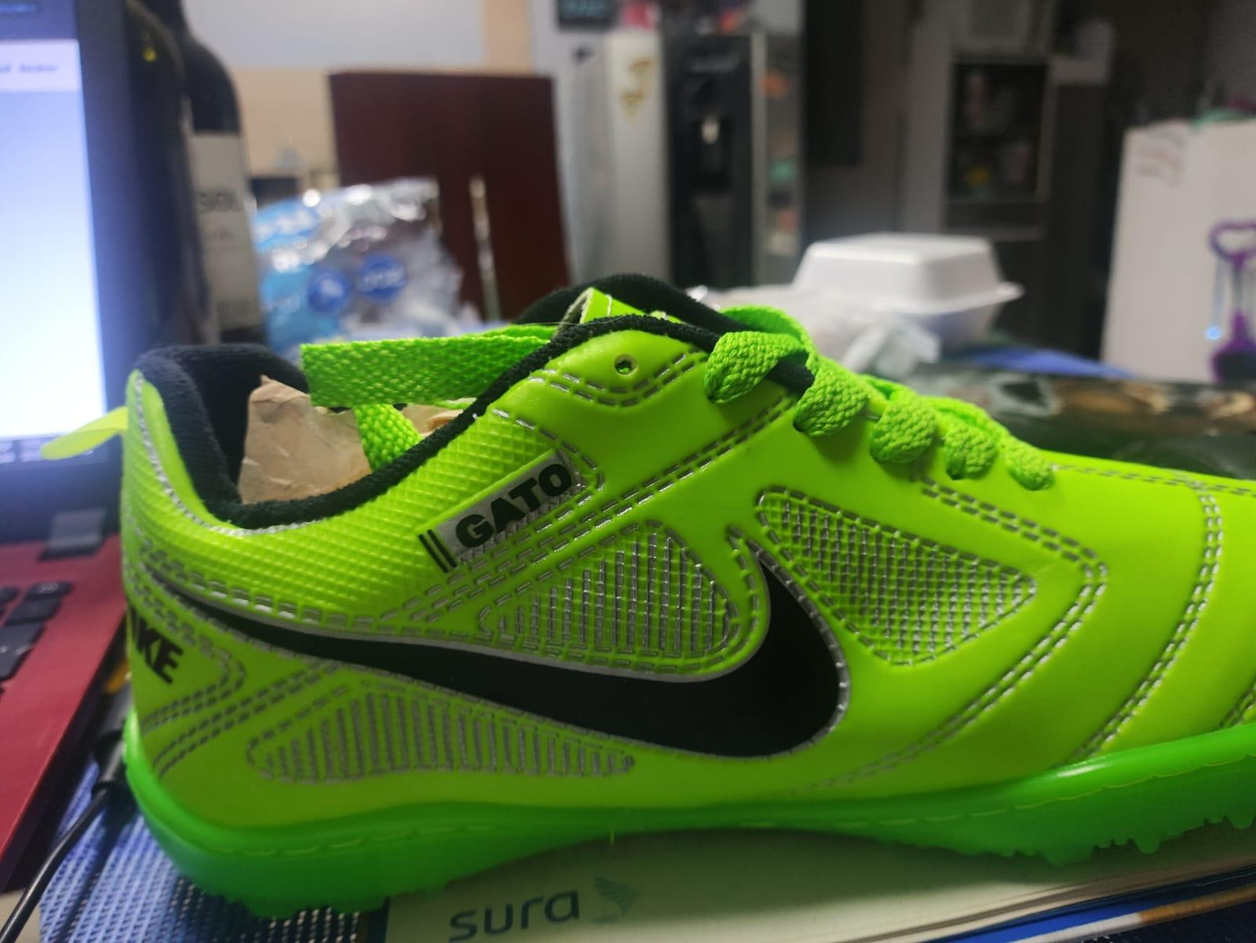marca: (146, 526, 852, 762)
shoe: (119, 276, 1255, 915)
texto: (411, 440, 586, 572), (128, 616, 204, 679)
